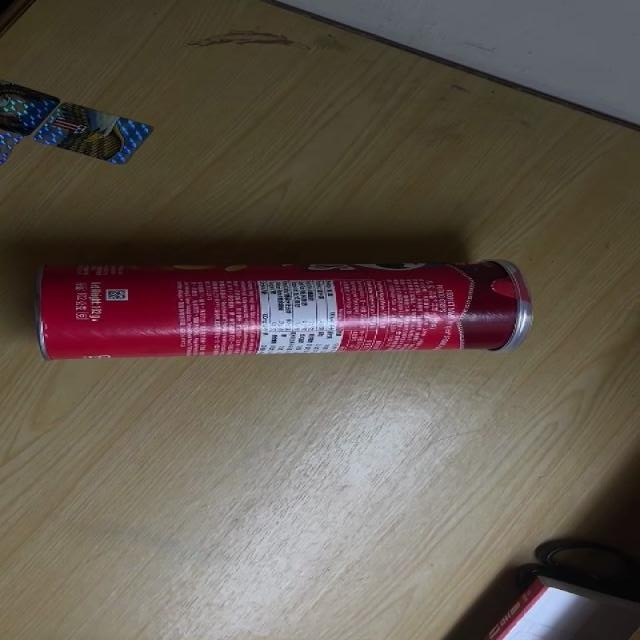Pringles: (33, 261, 534, 360)
